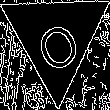O_NW: (28, 5, 84, 71)
